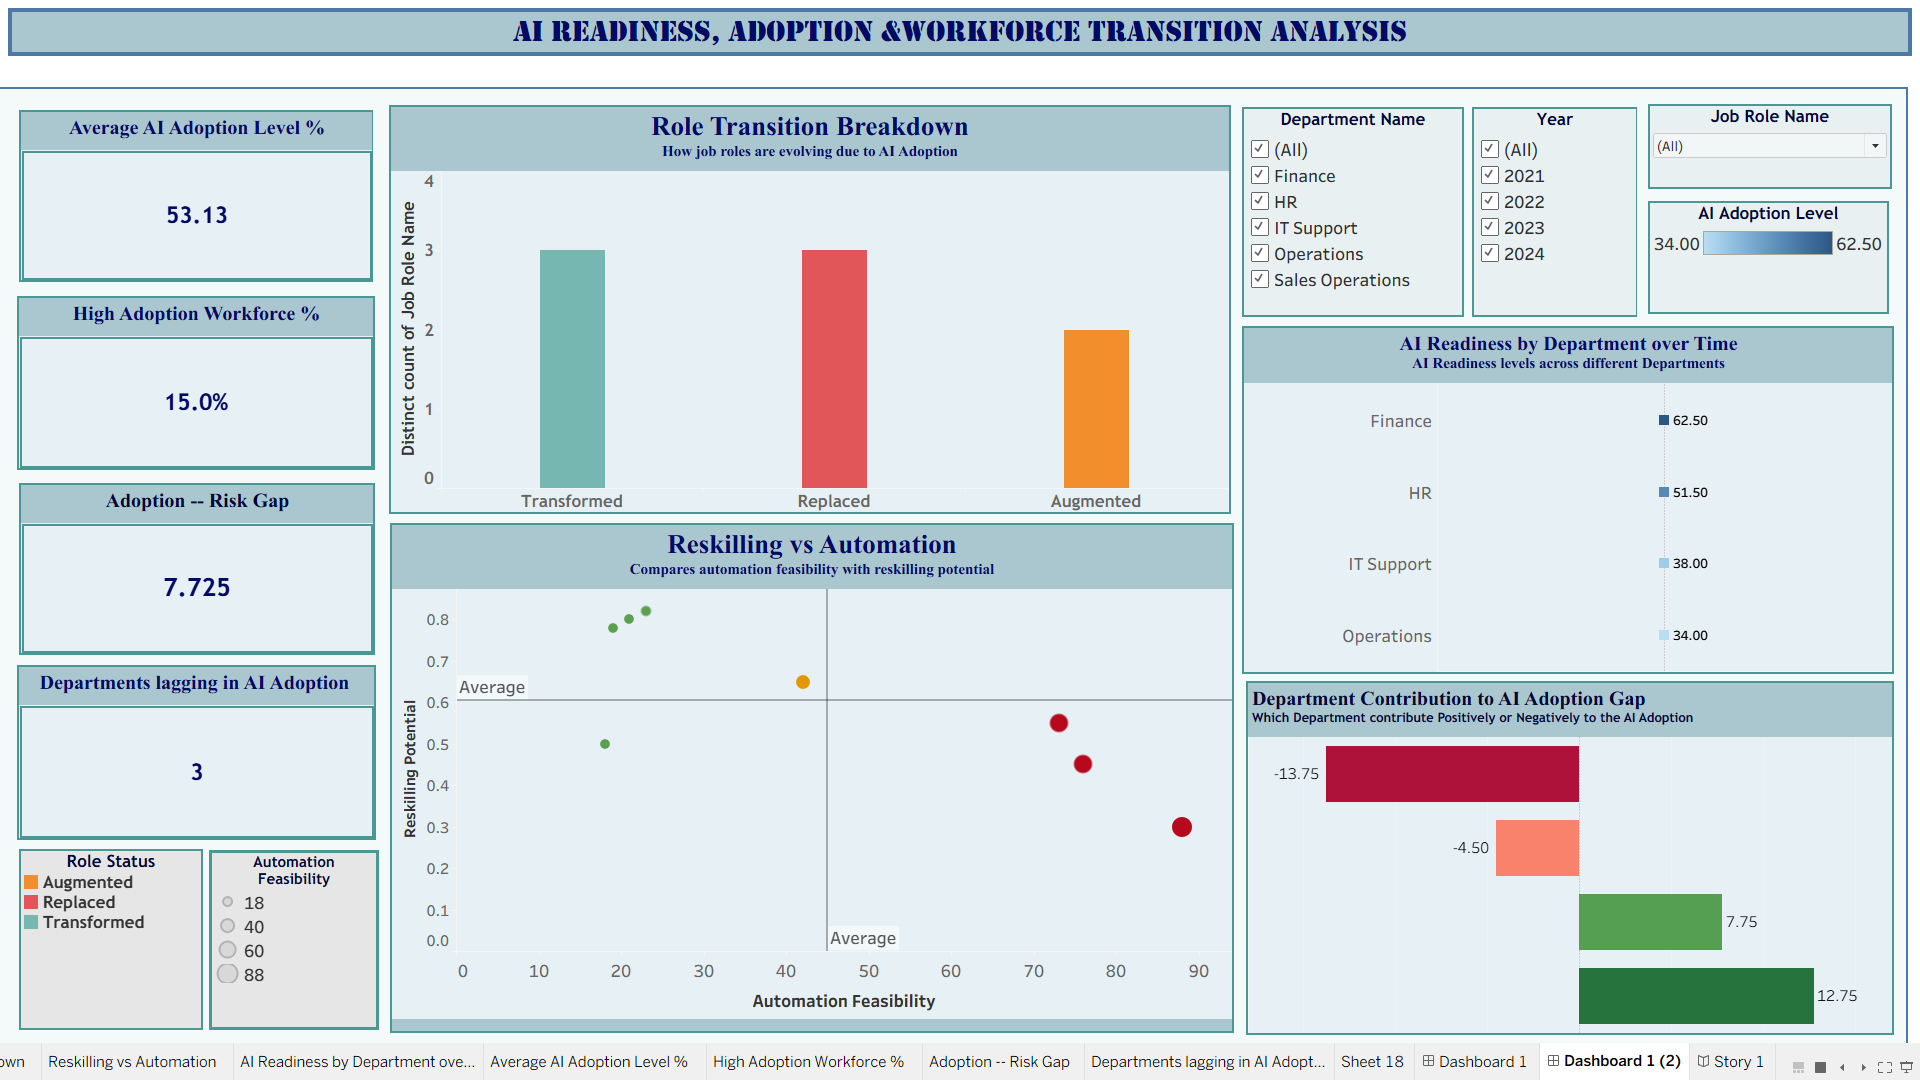

This screenshot's page, from the dashboard's own definition file:
{"tool":"tableau","page":{"name":"Dashboard 1 (2)","canvas":[1000,1000],"units":"permille","ordinal":1},"visuals":[{"type":"title","box":[5,10.6,990,63.3]},{"type":"filter","title":"AI Readiness by Department over Time","param":"[federated.008tdhd1utcax01f9s03s1taswns].[none:job_role_name:nk]","box":[858.4,99.4,126.9,81.9]},{"type":"worksheet","title":"Role Transition Breakdown","mark":"Automatic","rows":["job_role_name"],"cols":["role_status"],"box":[202.6,100.9,438.6,391.8]},{"type":"filter","title":"AI Readiness by Department over Time","param":"[federated.008tdhd1utcax01f9s03s1taswns].[none:DEPARTMENT_NAME:nk]","box":[646.9,102.3,115.5,201.8]},{"type":"filter","title":"AI Readiness by Department over Time","param":"[federated.008tdhd1utcax01f9s03s1taswns].[none:year:ok]","box":[766.5,102.3,86.2,201.8]},{"type":"worksheet","title":"Average AI Adoption Level %","mark":"Automatic","box":[9.8,105.3,184.7,165.2]},{"type":"legend","title":"AI Readiness by Department over Time","param":"[federated.008tdhd1utcax01f9s03s1taswns].[avg:ai_adoption_level:qk]","box":[858.4,193,125.3,108.2]},{"type":"worksheet","title":"High Adoption Workforce %","mark":"Automatic","box":[9,283.6,186.3,166.7]},{"type":"worksheet","title":"AI Readiness by Department over Time","mark":"Square","rows":["DEPARTMENT_NAME"],"cols":["year (AI_IMPACT_METRICS_CSV.csv)"],"box":[647.1,312.7,339.8,333.8]},{"type":"worksheet","title":"Adoption -- Risk Gap","mark":"Automatic","box":[9.8,463.4,185.5,165.2]},{"type":"worksheet","title":"Reskilling vs Automation","mark":"Circle","rows":["reskilling_potential"],"cols":["automation_feasibility"],"box":[203.2,501.3,439.5,489.4]},{"type":"worksheet","title":"Departments lagging in AI Adoption ","mark":"Automatic","box":[9,637.4,187.1,168.1]},{"type":"worksheet","title":"Sheet 18","mark":"Automatic","rows":["DEPARTMENT_NAME"],"cols":["Calculation_748723481711943682"],"box":[649,653,337.3,339.1]},{"type":"legend","title":"Role Transition Breakdown","param":"[federated.008tdhd1utcax01f9s03s1taswns].[none:role_status:nk]","box":[9.8,814.3,96,174]},{"type":"legend","title":"Reskilling vs Automation","param":"[federated.008tdhd1utcax01f9s03s1taswns].[sum:automation_feasibility:qk]","box":[109.1,815.3,88.5,172.8]}]}

Visuals, with their boxes on the dashboard's canvas, which has no fixed pixel size, in thousandths of its width and height (x1, y1, x2, y2). These are canvas units, not pixel positions in the 1920x1080 screenshot, which may show the page scaled, cropped or inside an application window:
title: (left=5, top=11, right=995, bottom=74)
"AI Readiness by Department over Time" filter: (left=858, top=99, right=985, bottom=181)
"Role Transition Breakdown" worksheet: (left=203, top=101, right=641, bottom=493)
"AI Readiness by Department over Time" filter: (left=647, top=102, right=762, bottom=304)
"AI Readiness by Department over Time" filter: (left=766, top=102, right=853, bottom=304)
"Average AI Adoption Level %" worksheet: (left=10, top=105, right=194, bottom=270)
"AI Readiness by Department over Time" legend: (left=858, top=193, right=984, bottom=301)
"High Adoption Workforce %" worksheet: (left=9, top=284, right=195, bottom=450)
"AI Readiness by Department over Time" worksheet (Square marks): (left=647, top=313, right=987, bottom=646)
"Adoption -- Risk Gap" worksheet: (left=10, top=463, right=195, bottom=629)
"Reskilling vs Automation" worksheet (Circle marks): (left=203, top=501, right=643, bottom=991)
"Departments lagging in AI Adoption " worksheet: (left=9, top=637, right=196, bottom=806)
"Sheet 18" worksheet: (left=649, top=653, right=986, bottom=992)
"Role Transition Breakdown" legend: (left=10, top=814, right=106, bottom=988)
"Reskilling vs Automation" legend: (left=109, top=815, right=198, bottom=988)
